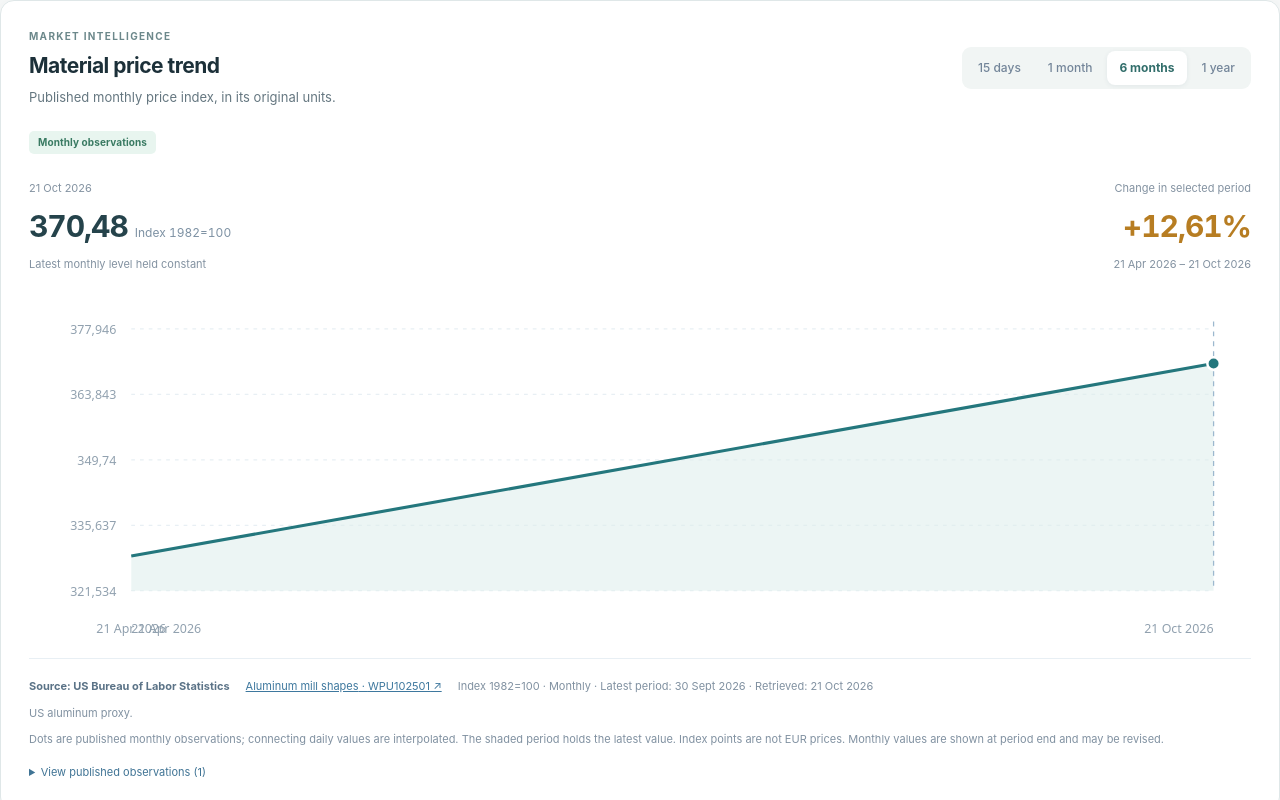
Test: Material price history › switches all four periods, exposes source observations and displays published indexes
Check: the picture is shown, box x1=29 y1=284 x2=1251 y2=658
Check: the text "Index 1982=100" is shown, box x1=135 y1=224 x2=231 y2=240
Step 1. Click the button "15 days" → (999, 68), box x1=966 y1=51 x2=1033 y2=85
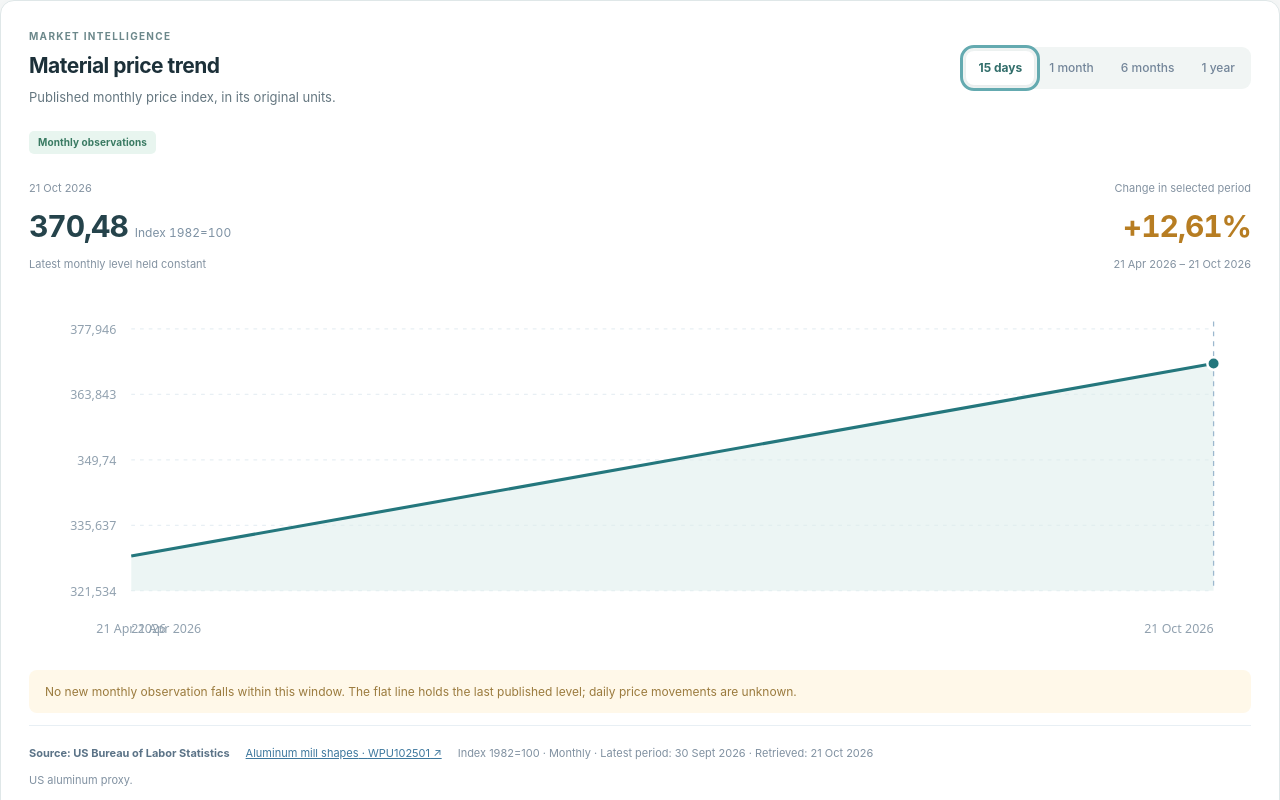
Check: the picture is shown, box x1=29 y1=284 x2=1251 y2=658
Check: the text "daily price movements are unknown" is shown, box x1=45 y1=684 x2=797 y2=699
Step 2. Click the button "1 month" → (1072, 68), box x1=1037 y1=51 x2=1106 y2=85
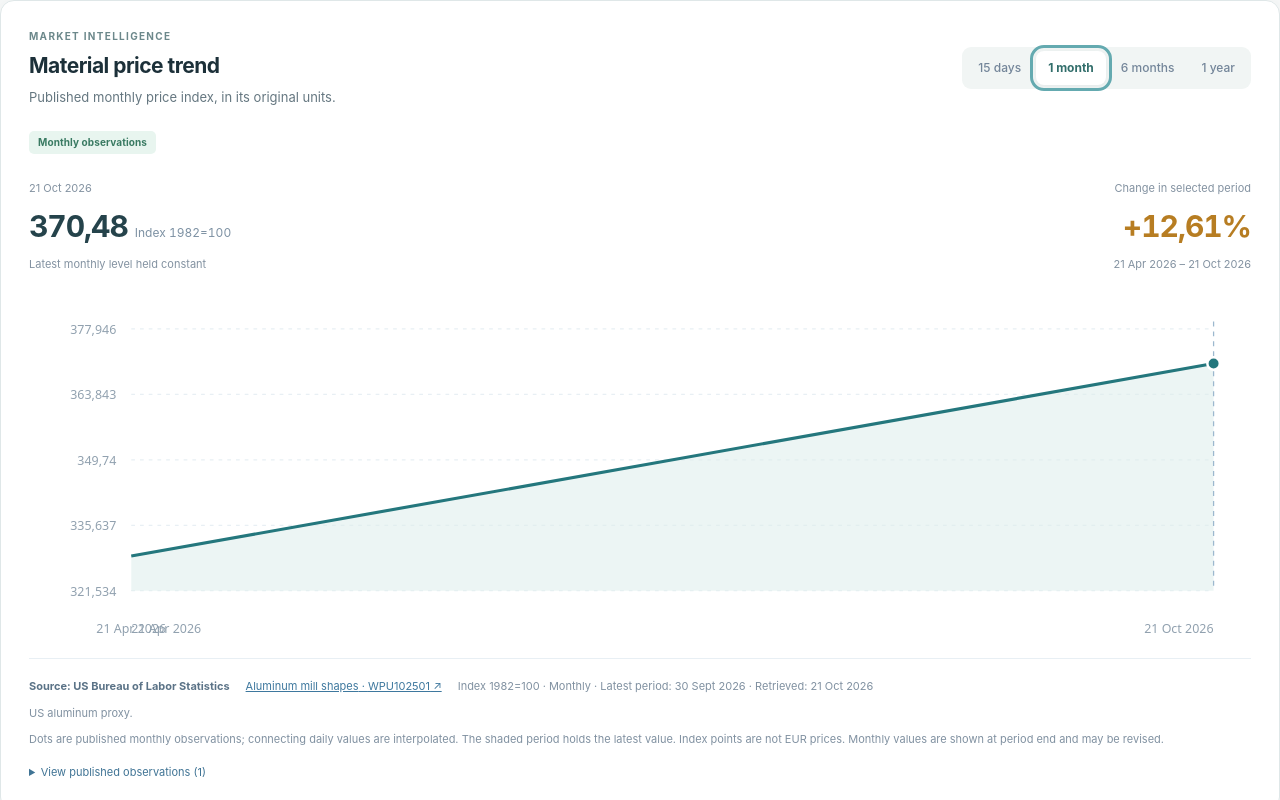
Check: the picture is shown, box x1=29 y1=284 x2=1251 y2=658
Check: the button "1 month" is pressed, box x1=1036 y1=51 x2=1106 y2=85
Step 3. Click the button "6 months" → (1148, 68), box x1=1109 y1=51 x2=1186 y2=85
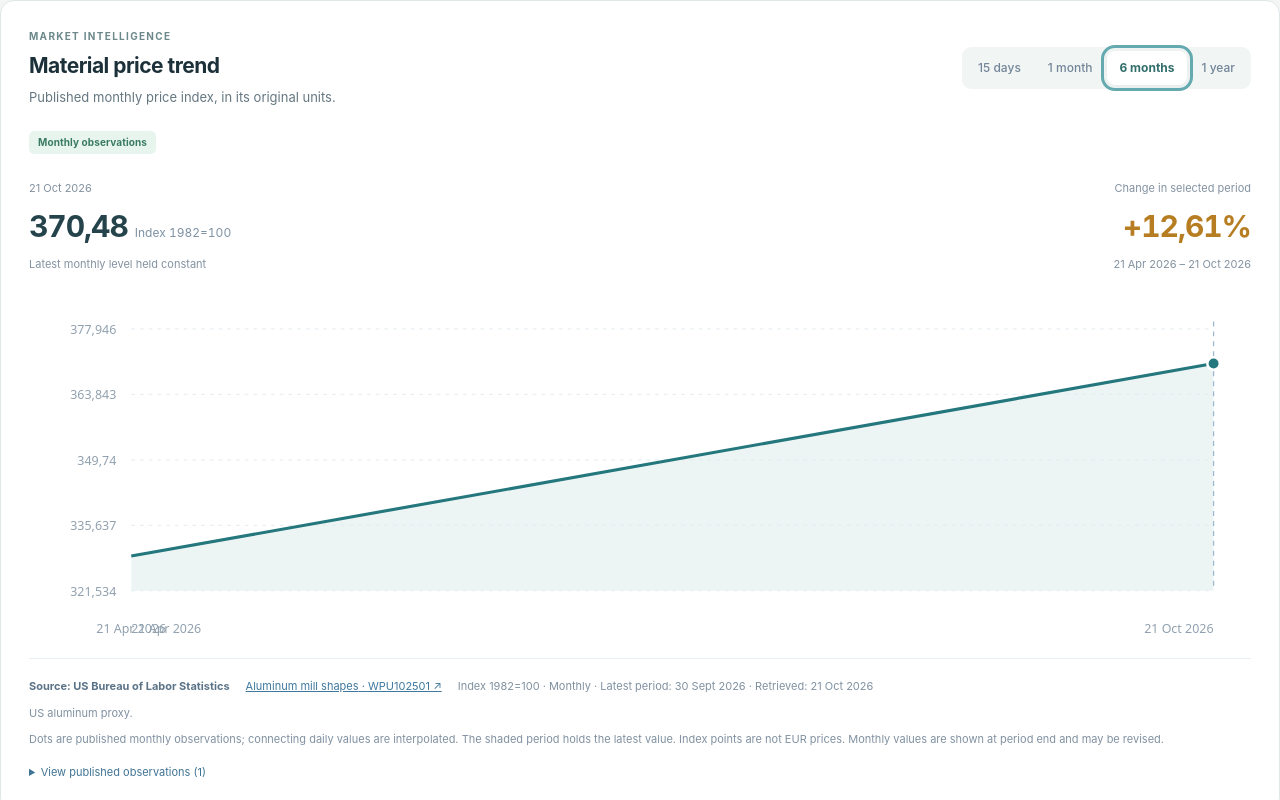
Check: the picture is shown, box x1=29 y1=284 x2=1251 y2=658
Check: the button "6 months" is pressed, box x1=1108 y1=51 x2=1186 y2=85
Step 4. Click the button "1 year" → (1218, 68), box x1=1190 y1=51 x2=1247 y2=85
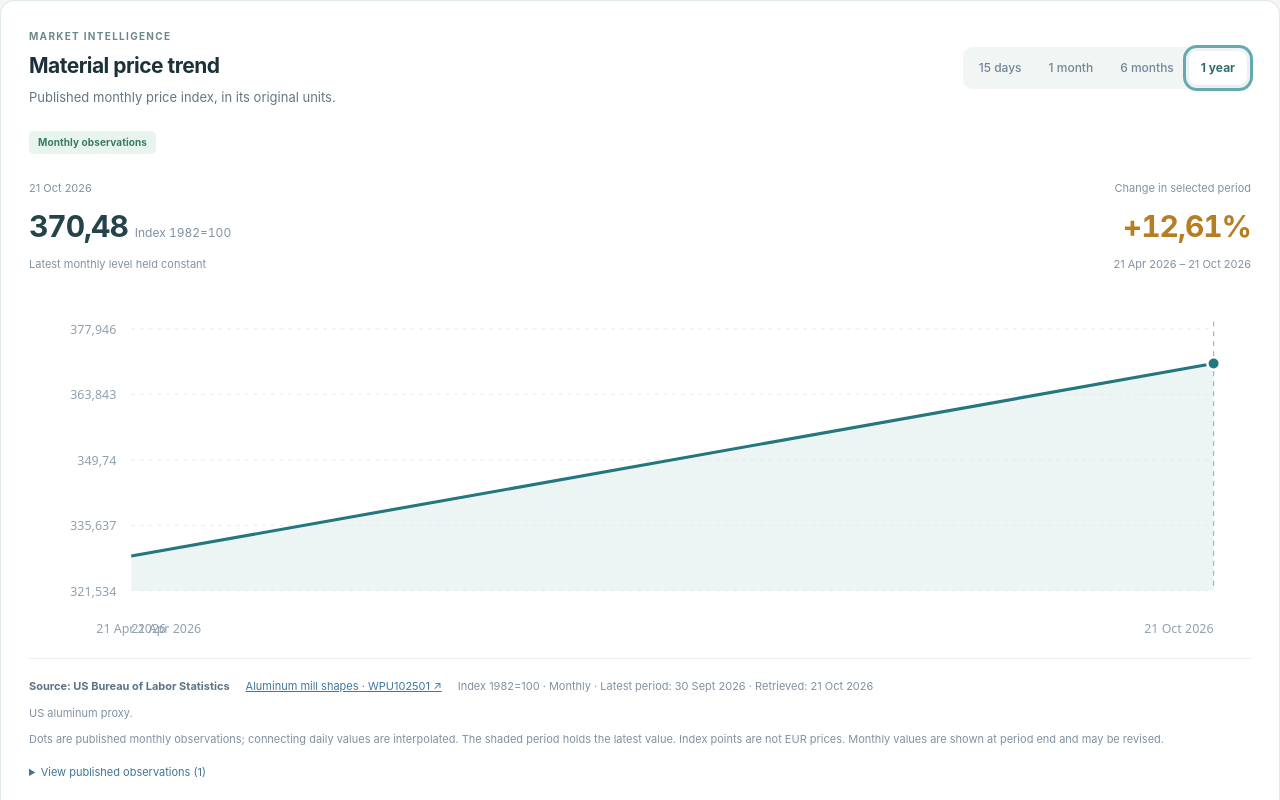
Check: the picture is shown, box x1=29 y1=284 x2=1251 y2=658
Check: the button "1 year" is pressed, box x1=1189 y1=51 x2=1247 y2=85
Step 5. Click the heading "View published observations (1)" → (123, 772), box x1=41 y1=765 x2=206 y2=779
(page scrolled)
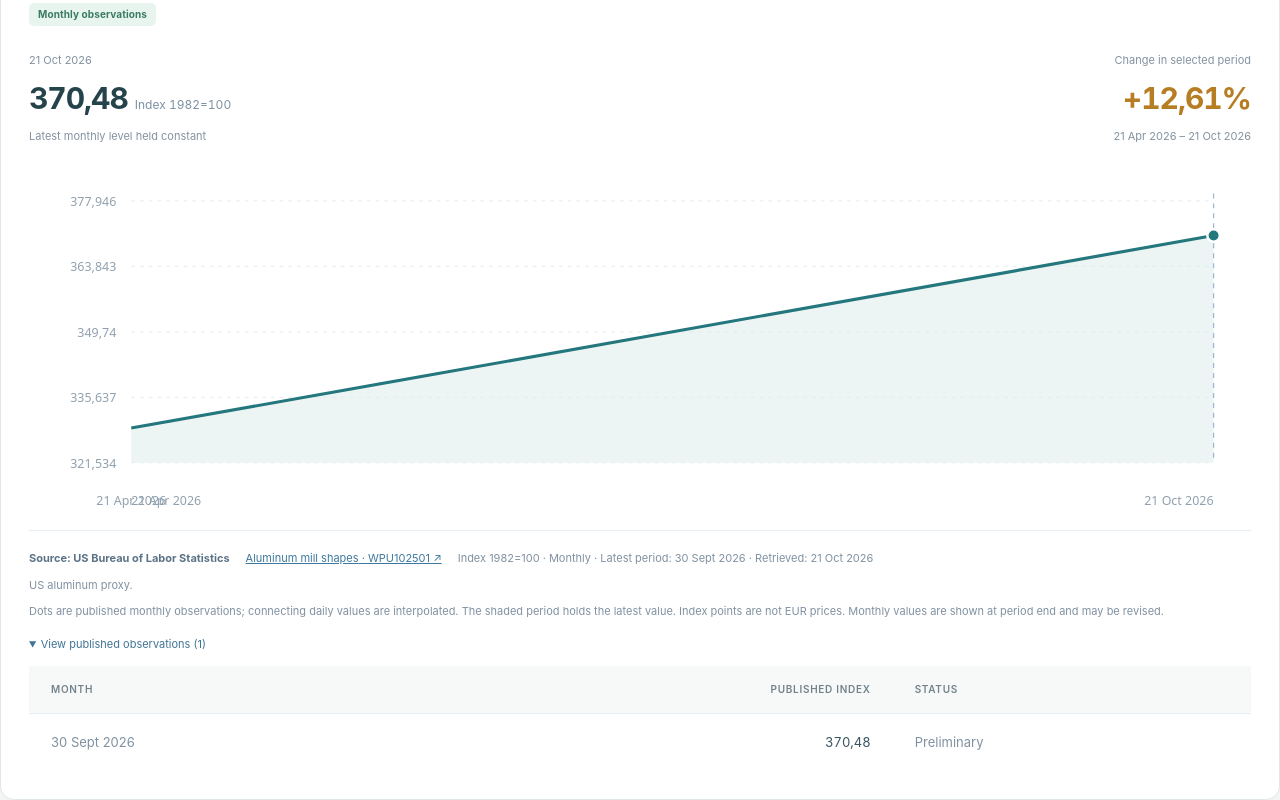
Check: the text "370,48" is shown, box x1=435 y1=713 x2=893 y2=771
